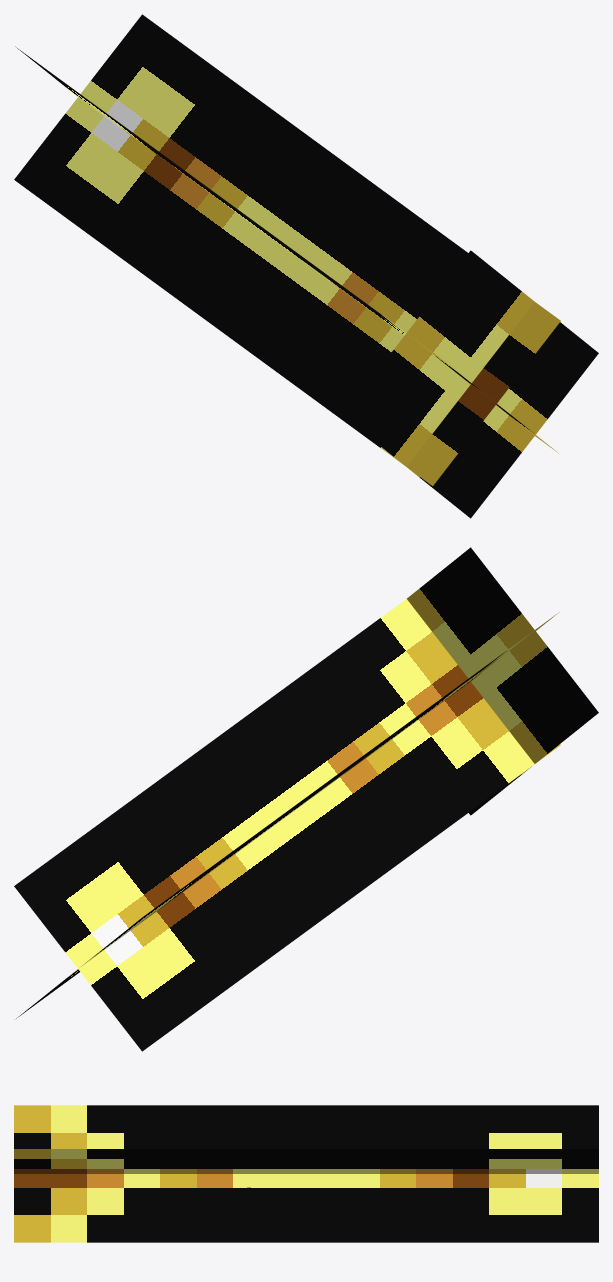
The model's file is spectral_arrow.gltf.
3 views of the same model, one above another, from view 1: azimuth 30°, elevation 25°; view 2: azimuth 150°, elevation 25°; view 3: azimuth 270°, elevation 25° (orthographic). The views are drawn at different scales.
Parts seen in each view (by area): view 1: cross_1, back, cross_2; view 2: cross_1, back, cross_2; view 3: cross_2, cross_1.
Part boxes in pixels (<box>): cross_1: <box>14,14,560,485</box>; back: <box>342,250,598,518</box>; cross_2: <box>15,46,558,453</box>; cross_1: <box>14,599,560,1051</box>; back: <box>407,547,598,815</box>; cross_2: <box>16,613,557,1018</box>; cross_2: <box>14,1105,598,1242</box>; cross_1: <box>14,1149,598,1173</box>.
Bounding box in the file's own units: 0.3536 × 0.3536 × 1.
Materials: 1 (1 with a texture image).
